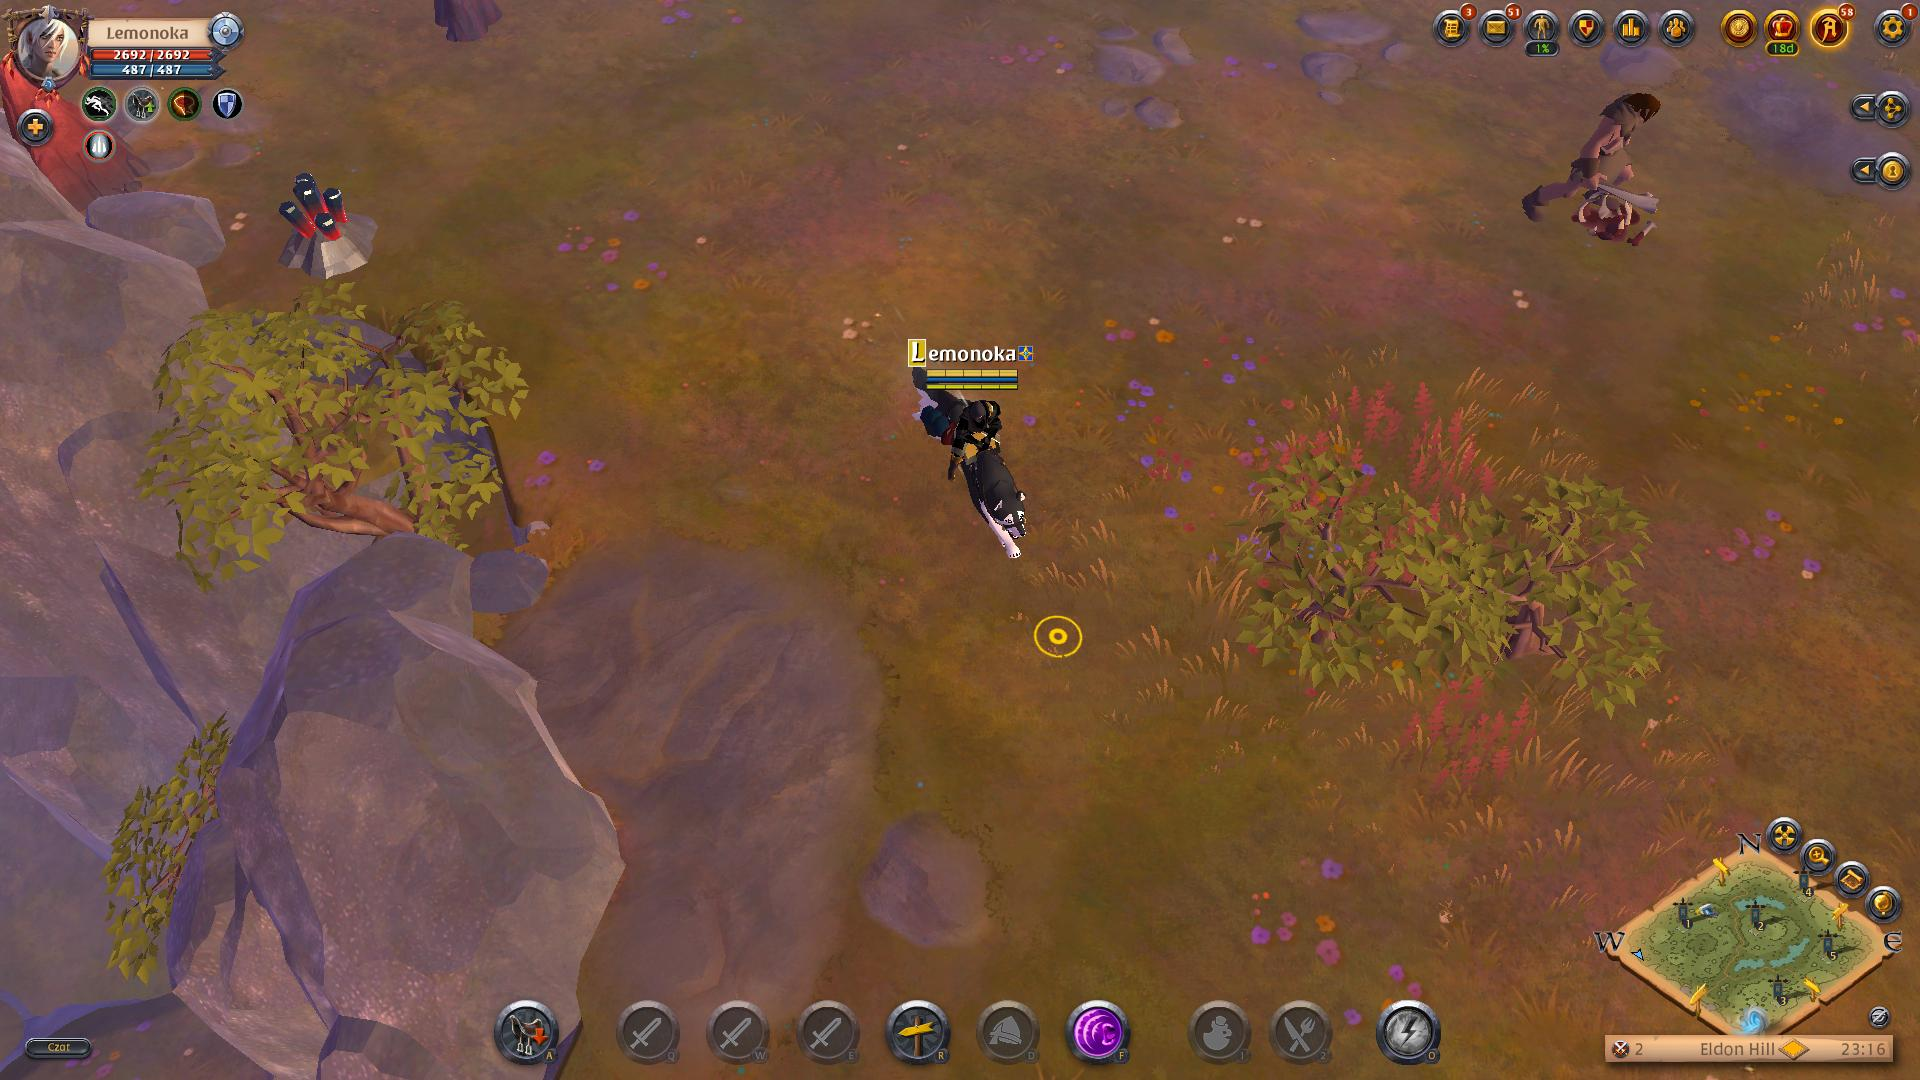ore tier 5: (276, 171, 375, 280)
